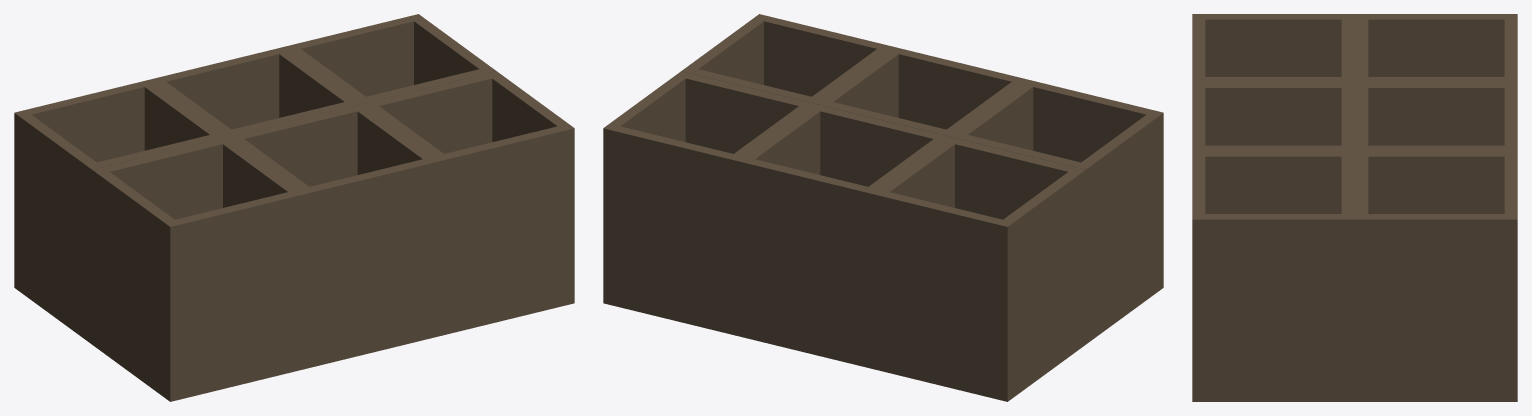
The model's file is drinkholders.fbx.
3 renders of one model, left to right at view 1: azimuth 30°, elevation 25°; view 2: azimuth 150°, elevation 25°; view 3: azimuth 270°, elevation 25°, orthographic. The views are drawn at different scales.
Visible parts, largest first — view 1: pCube5, pCube6, pCube7, Holder, Holder1, pCube4; view 2: Holder, Holder1, pCube4, pCube5, pCube6, pCube7; view 3: Holder1, pCube6, pCube4, pCube7, Holder, pCube5.
Boxes of the visible parts, x1,y1,x2,y2 form: pCube5: (92,137,305,401); pCube6: (362,71,574,335); pCube7: (227,104,439,368); Holder: (14,80,226,344); Holder1: (284,14,496,103); pCube4: (149,47,361,136); Holder: (872,137,1085,401); Holder1: (603,71,815,335); pCube4: (738,104,950,368); pCube5: (951,80,1163,344); pCube6: (681,14,893,103); pCube7: (816,47,1028,136); Holder1: (1355,151,1517,401); pCube6: (1192,151,1354,401); pCube4: (1355,82,1517,151); pCube7: (1192,82,1354,151); Holder: (1355,14,1517,82); pCube5: (1192,14,1354,82).
Bounding box in the file's own units: 9.97 × 4.12 × 6.67.
